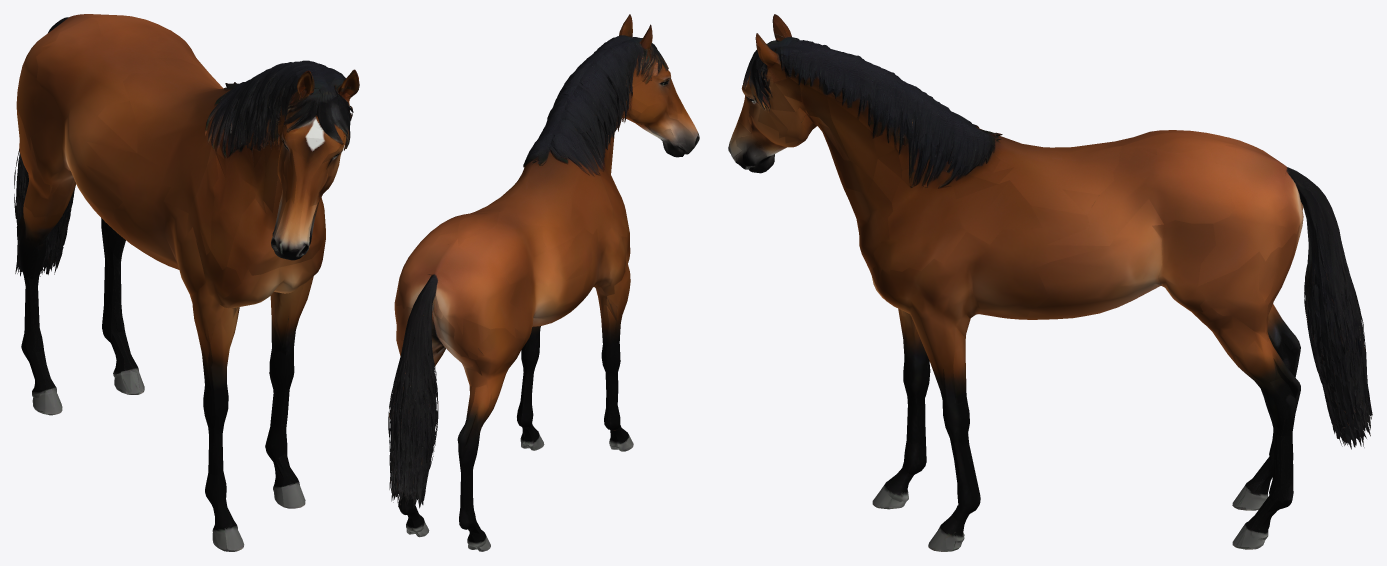
File: pferd_meshy.glb
The picture shows the model from 3 angles, left to right: view 1: azimuth 30°, elevation 25°; view 2: azimuth 150°, elevation 25°; view 3: azimuth 270°, elevation 25°; orthographic projection. The views are drawn at different scales.
Bounding box in the file's own units: 0.5365 × 1.62 × 1.9.
1 material, 1 textured.
